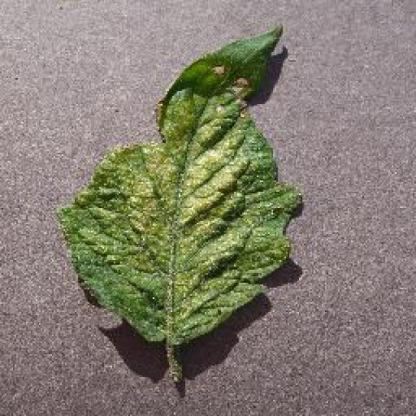Tomato_Spider_Mites: (70, 24, 301, 338)
